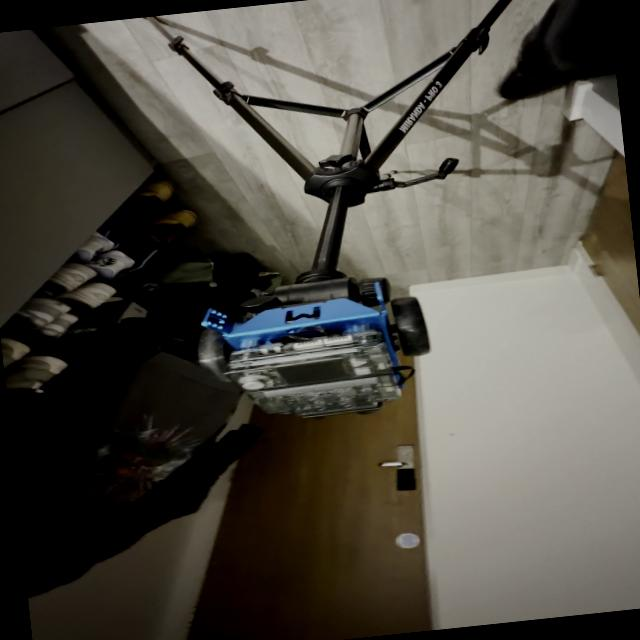mbot-detection: (186, 265, 444, 431)
